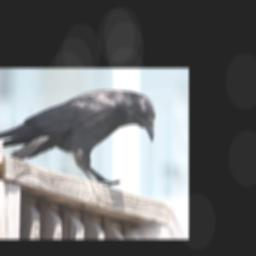Crow: (0, 88, 156, 186)
